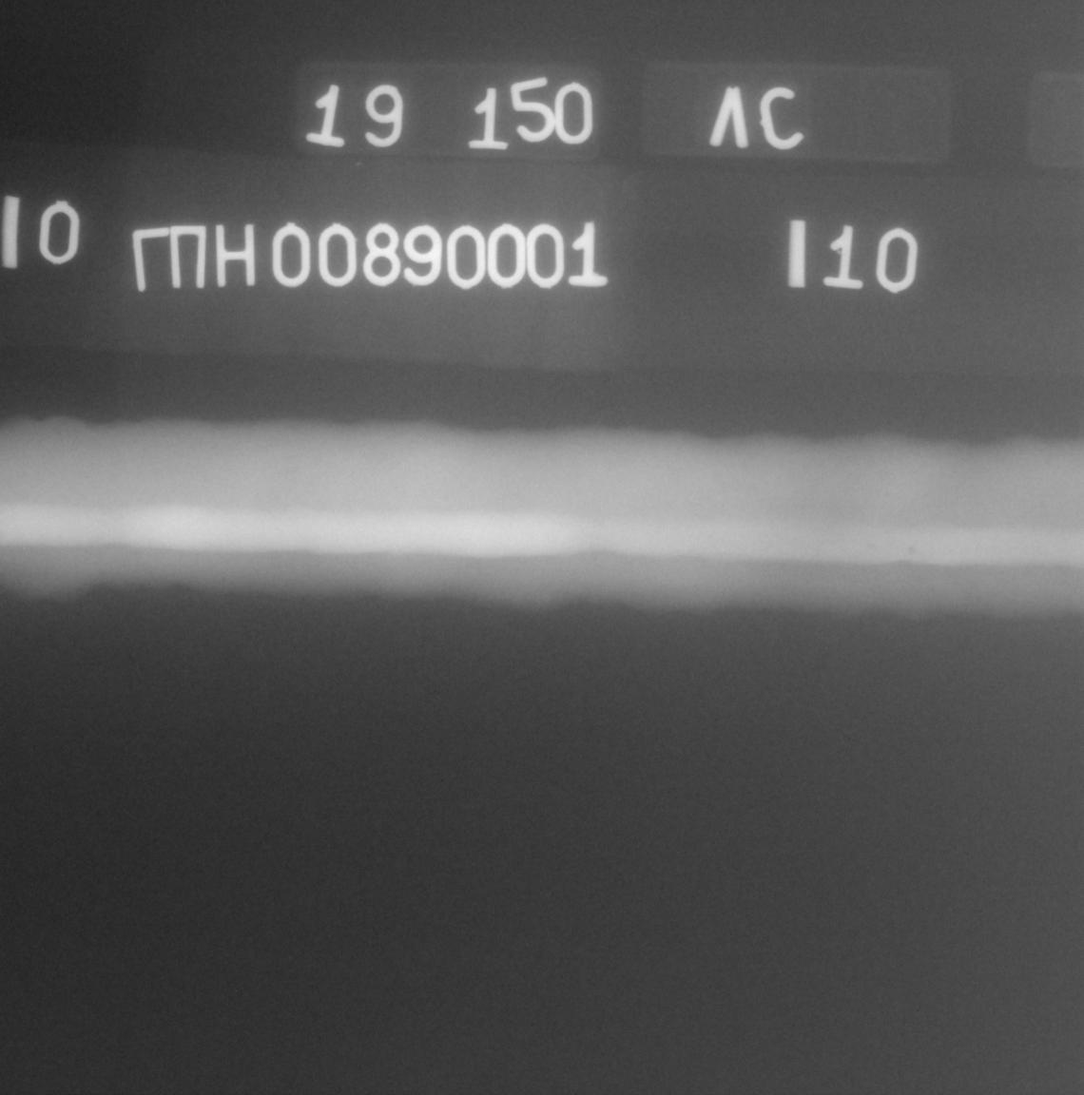Inclusion: (869, 543, 875, 548)
Pore/Porosity: (907, 548, 914, 554), (900, 571, 903, 574)
